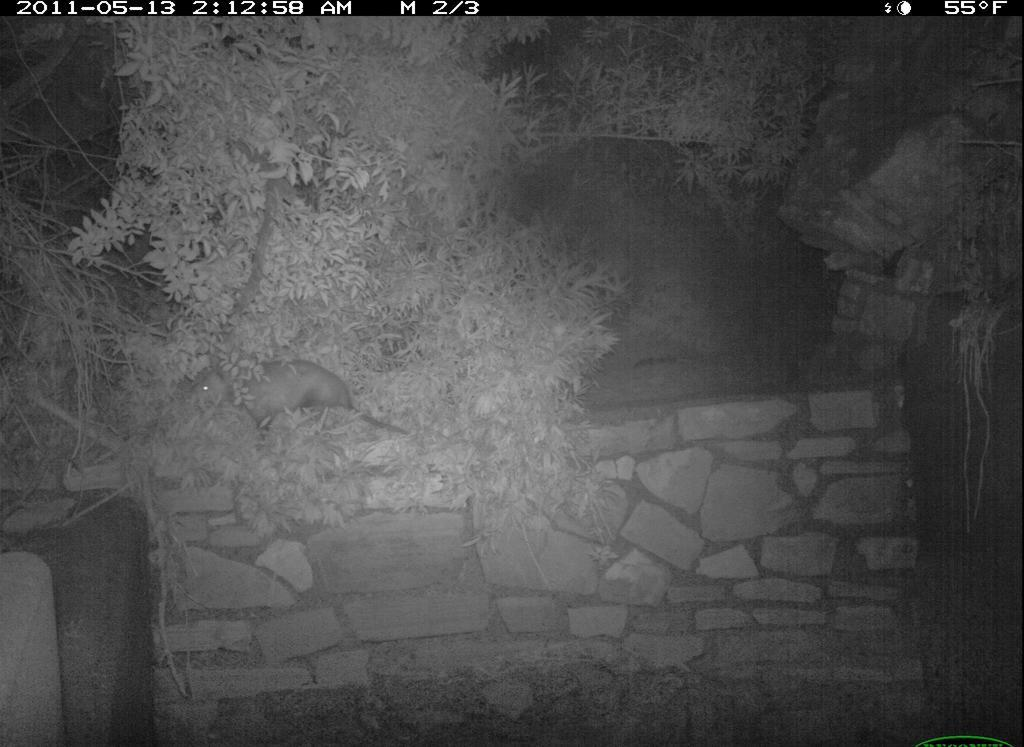opossum: (163, 331, 432, 474)
